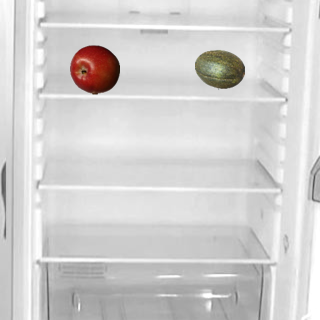Apple Braeburn: (69, 44, 119, 94)
Melon Piel de Sapo: (194, 44, 244, 94)
